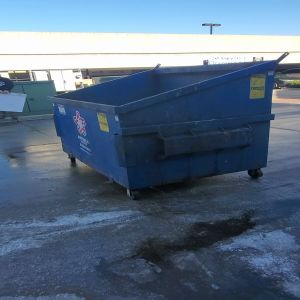Dumpster: (50, 61, 279, 202)
